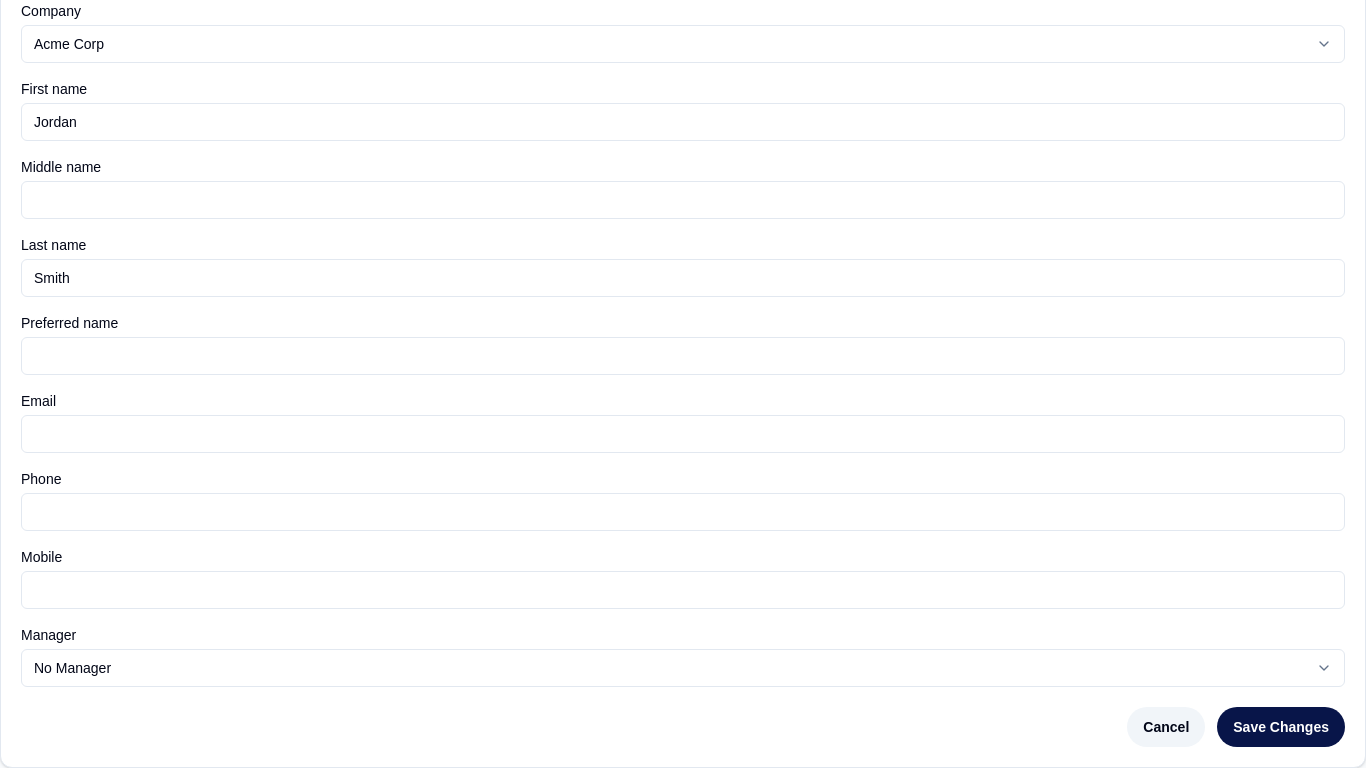
MhdPersonForm — Manager field behavior › excludes the person currently being edited from Manager options
(page scrolled)
Click the button "No manager" at {"x": 73, "y": 668}, box [21,649,1345,687]
(page scrolled)
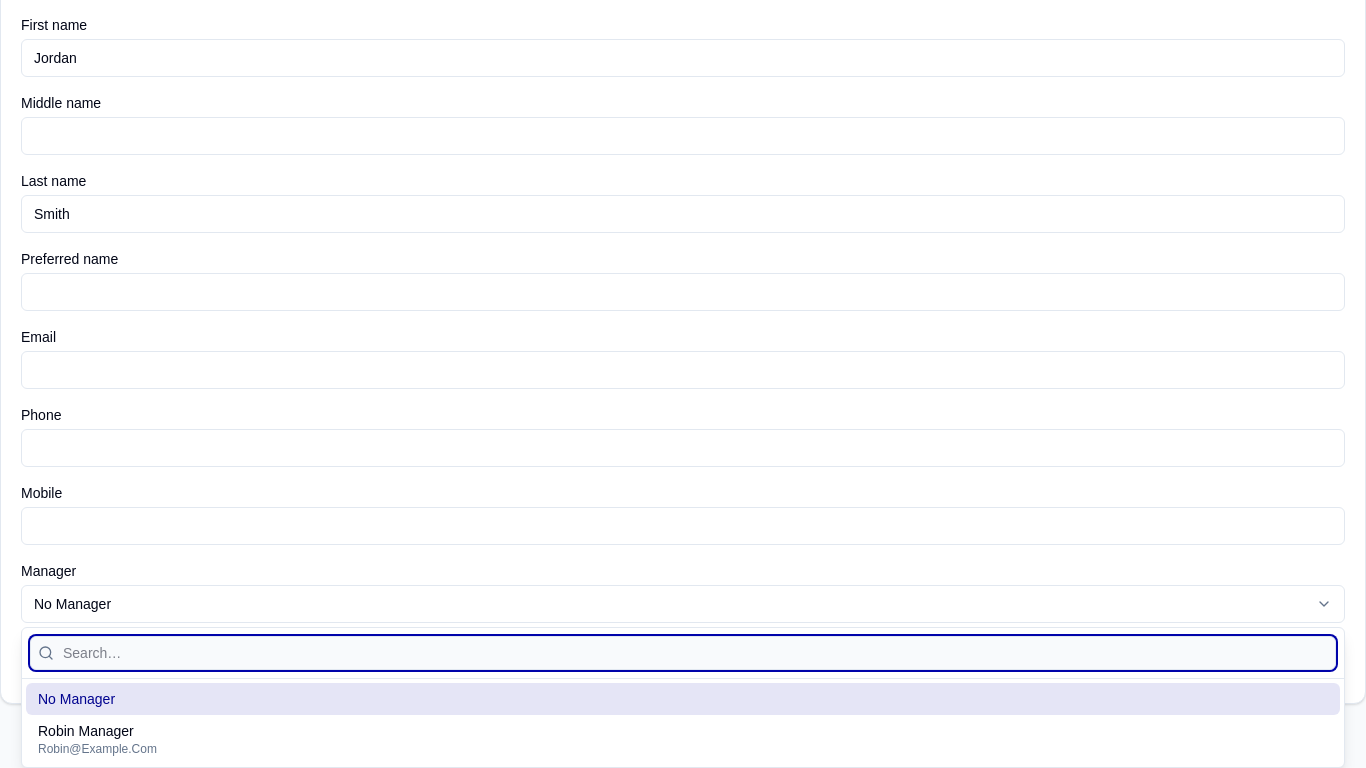
Check: the option "Robin Manager robin@example.com" is shown, box [26,715,1340,763]
